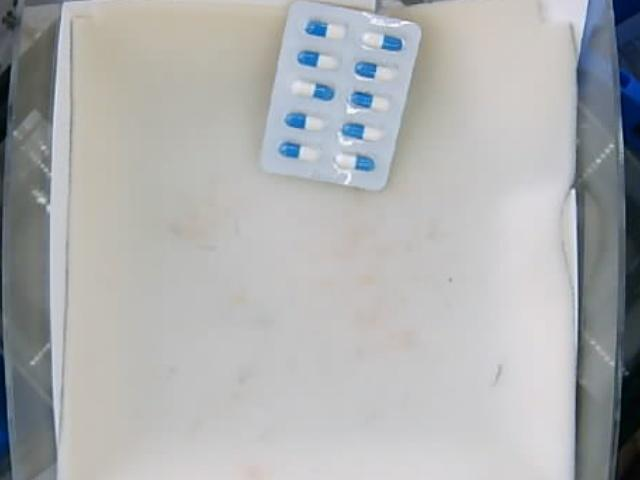Medicine: (262, 1, 418, 198)
